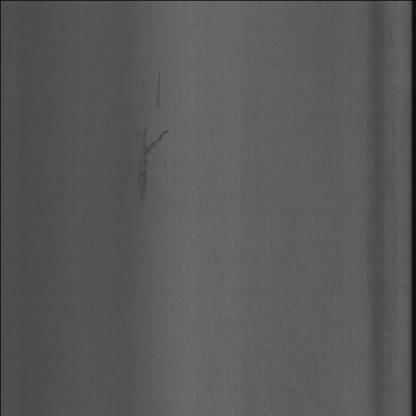water_spot: (126, 72, 176, 211)
